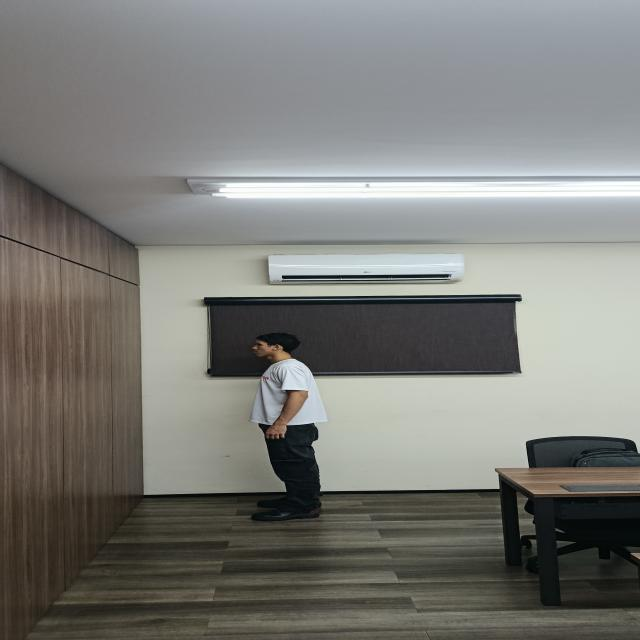sem_oculos: (252, 343, 280, 348)
